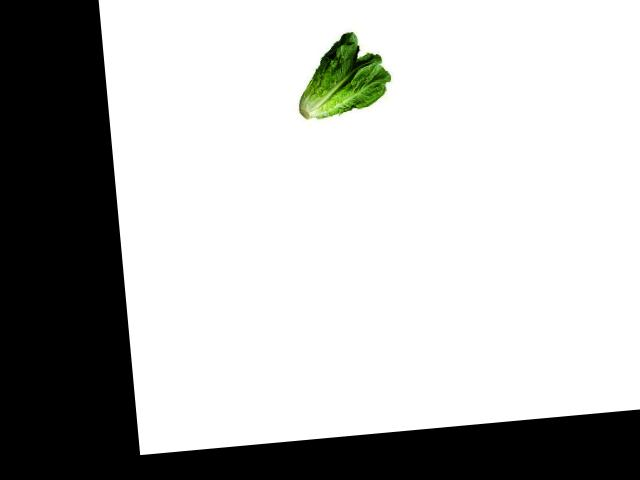lettuce: (286, 25, 394, 128)
